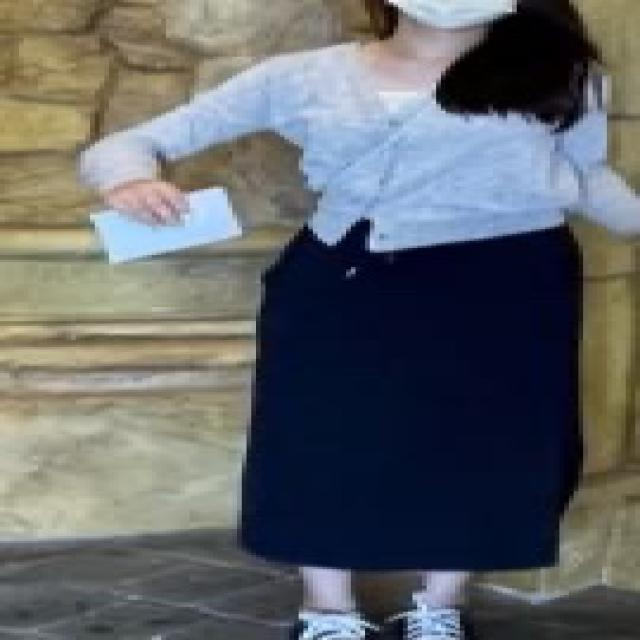cardigan: (76, 38, 640, 254)
skirt: (235, 213, 584, 570)
